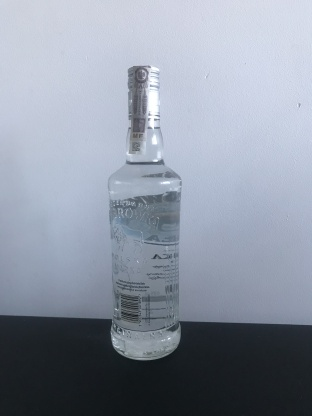nakretka: (125, 62, 162, 123)
